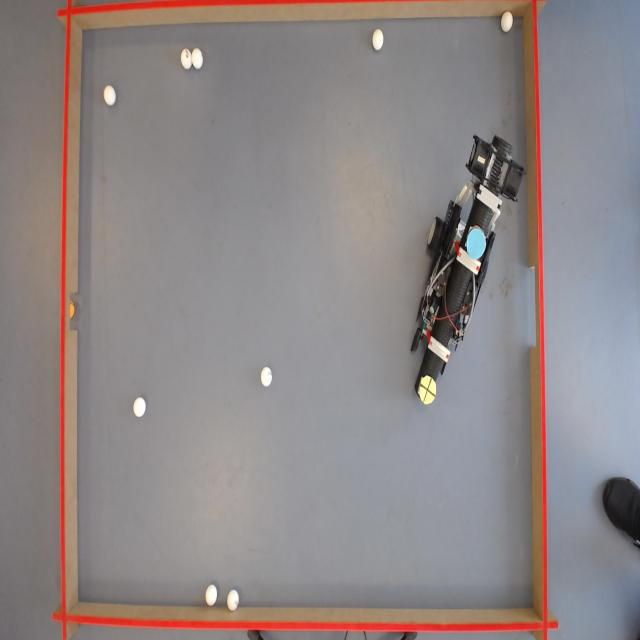robot: (406, 131, 526, 403)
robot-front: (419, 375, 436, 406)
robot-rear: (465, 226, 484, 261)
white: (103, 86, 117, 108), (372, 29, 386, 51), (205, 585, 219, 607), (228, 590, 241, 612), (500, 10, 513, 32), (134, 398, 147, 419), (180, 48, 192, 70), (262, 365, 274, 386), (191, 49, 203, 69)
